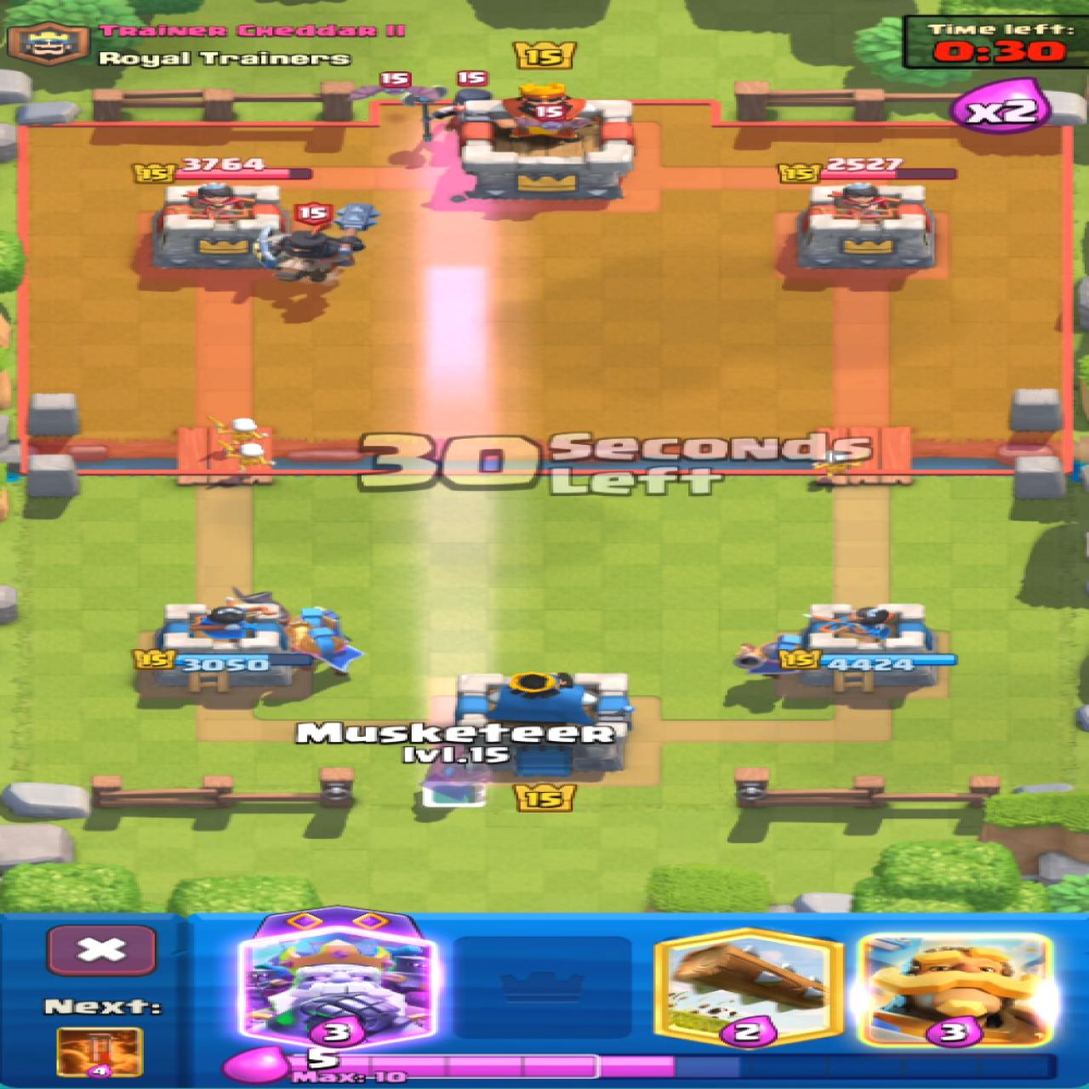Enemy-Bat: (348, 72, 429, 100)
Enemy-DarkPrince-Shield-Charge: (259, 205, 379, 285)
Enemy-KingTower: (460, 83, 632, 198)
Enemy-NightWitch: (403, 86, 488, 141)
Enemy-PrincessTower: (797, 182, 934, 268), (152, 181, 285, 269)
